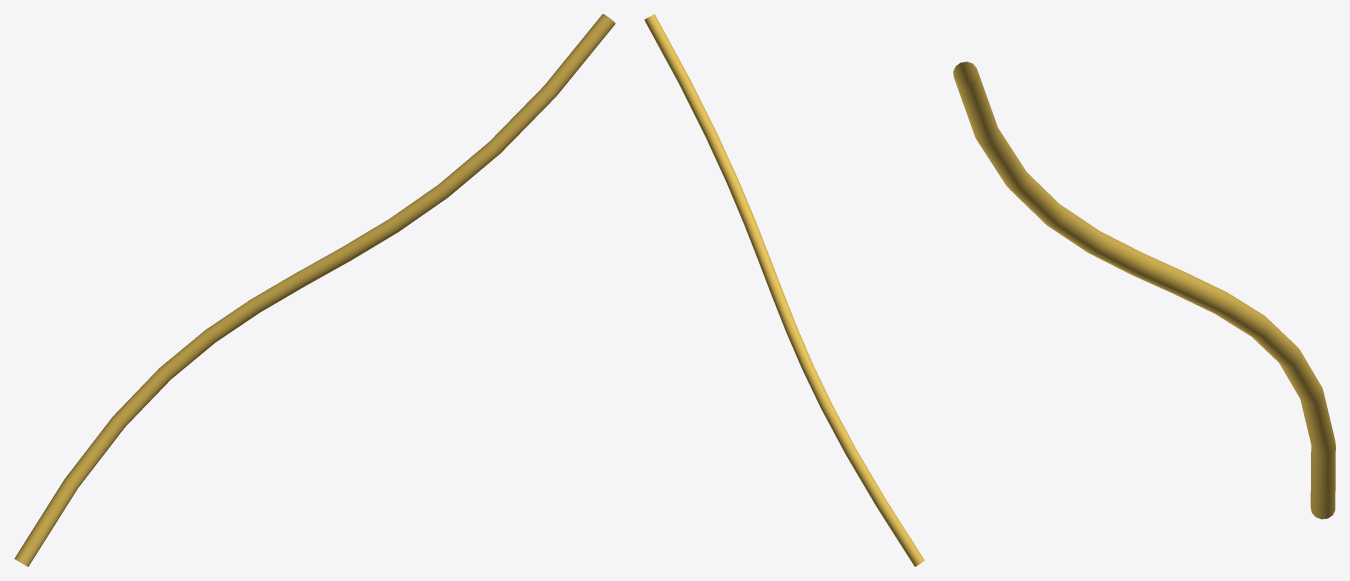
Rendered from Superior_trunk_brachial_plexus_right.glb.
3 views of the same model, side by side, from view 1: azimuth 30°, elevation 25°; view 2: azimuth 150°, elevation 25°; view 3: azimuth 270°, elevation 25° (orthographic). The views are drawn at different scales.
Visible parts, largest first — view 1: Superior_trunk_of_brachial_plexus.r_BezierCurve.401; view 2: Superior_trunk_of_brachial_plexus.r_BezierCurve.401; view 3: Superior_trunk_of_brachial_plexus.r_BezierCurve.401.
Boxes of the visible parts, box(x1,y1,x2,y2) form: Superior_trunk_of_brachial_plexus.r_BezierCurve.401: box(14, 14, 615, 566); Superior_trunk_of_brachial_plexus.r_BezierCurve.401: box(644, 14, 924, 566); Superior_trunk_of_brachial_plexus.r_BezierCurve.401: box(953, 61, 1335, 519).
Size of the model in its own units: 0.0342 by 0.0355 by 0.0154.
